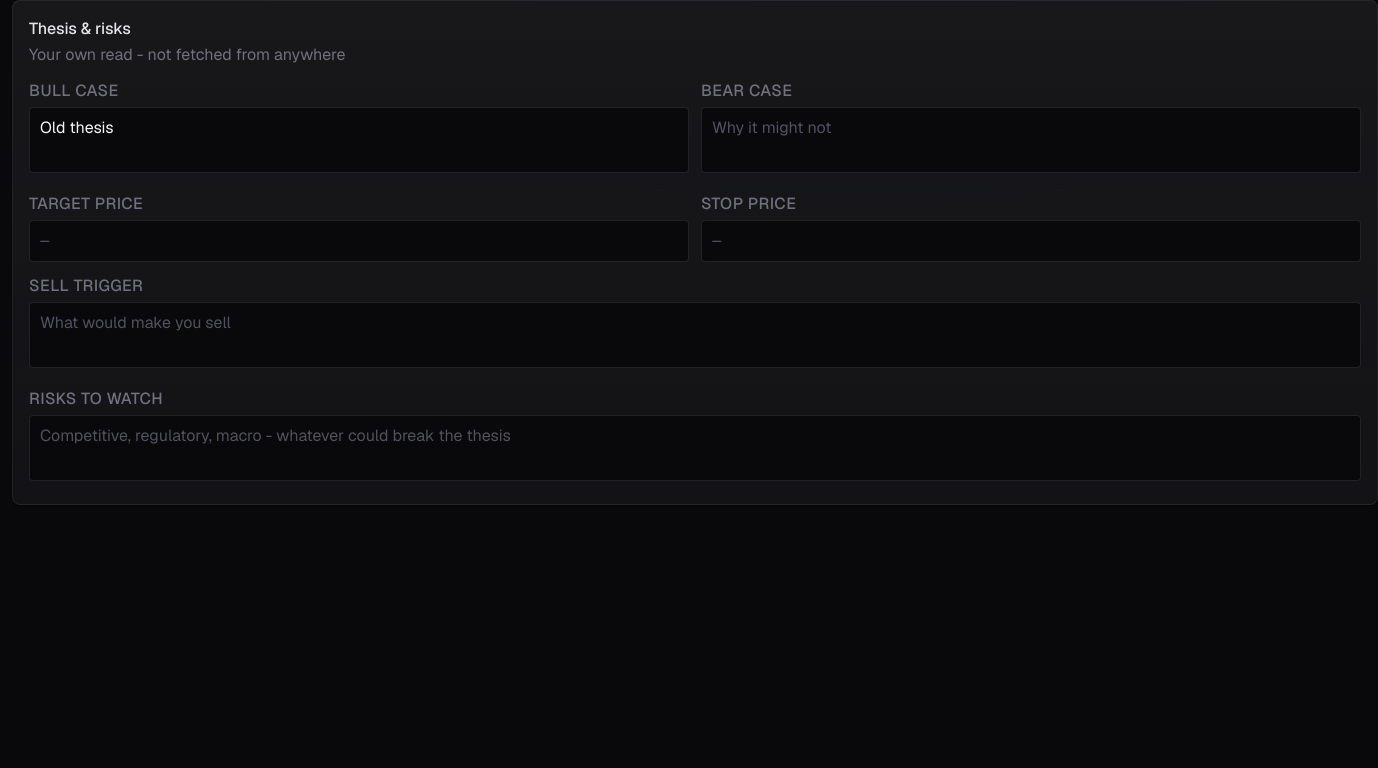
Scenario: ThesisAndRisksCard saving through the note mutation › a failed text save keeps the draft
Replace the text in the text box showing "Old thesis" with "Paragraphs of new thesis": (359, 140) [29,107,689,173]
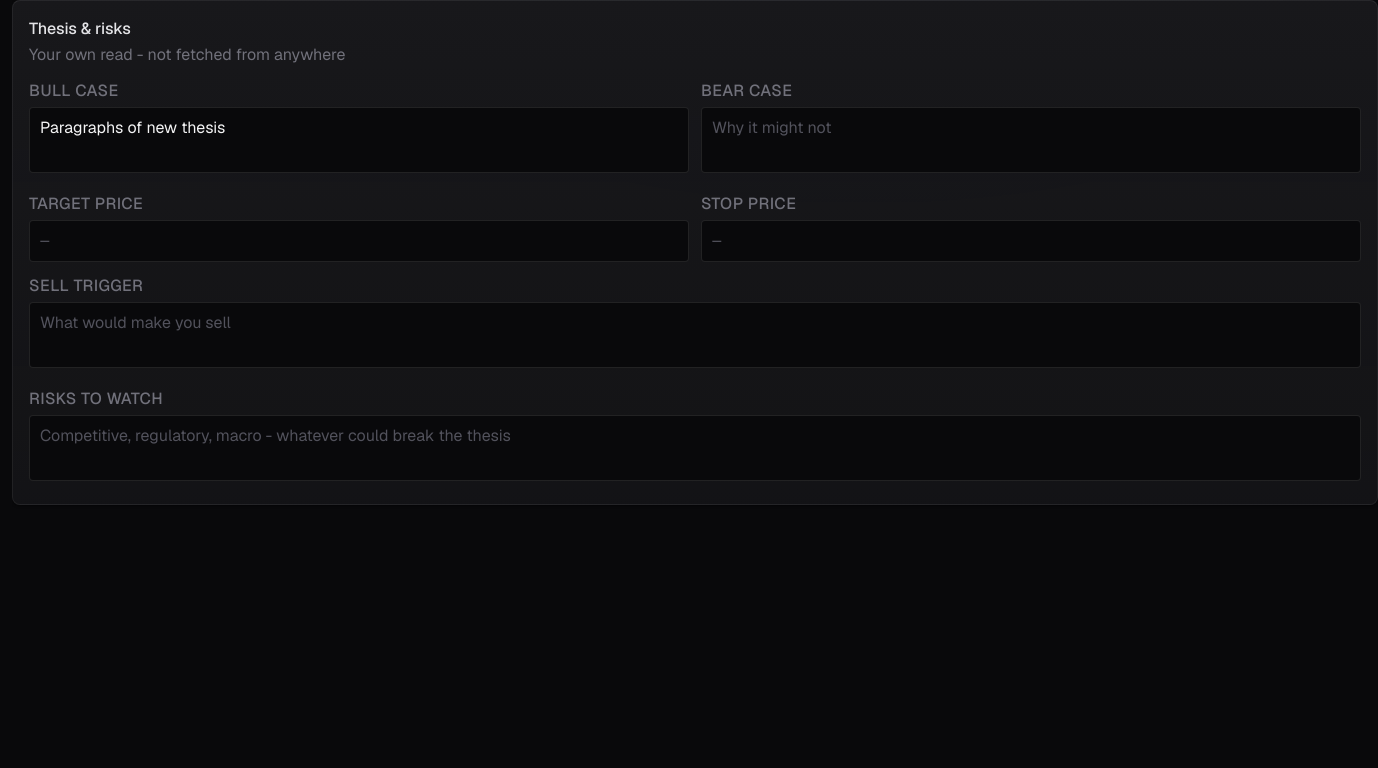
Leave the text box showing "Old thesis", box [29,107,689,173]
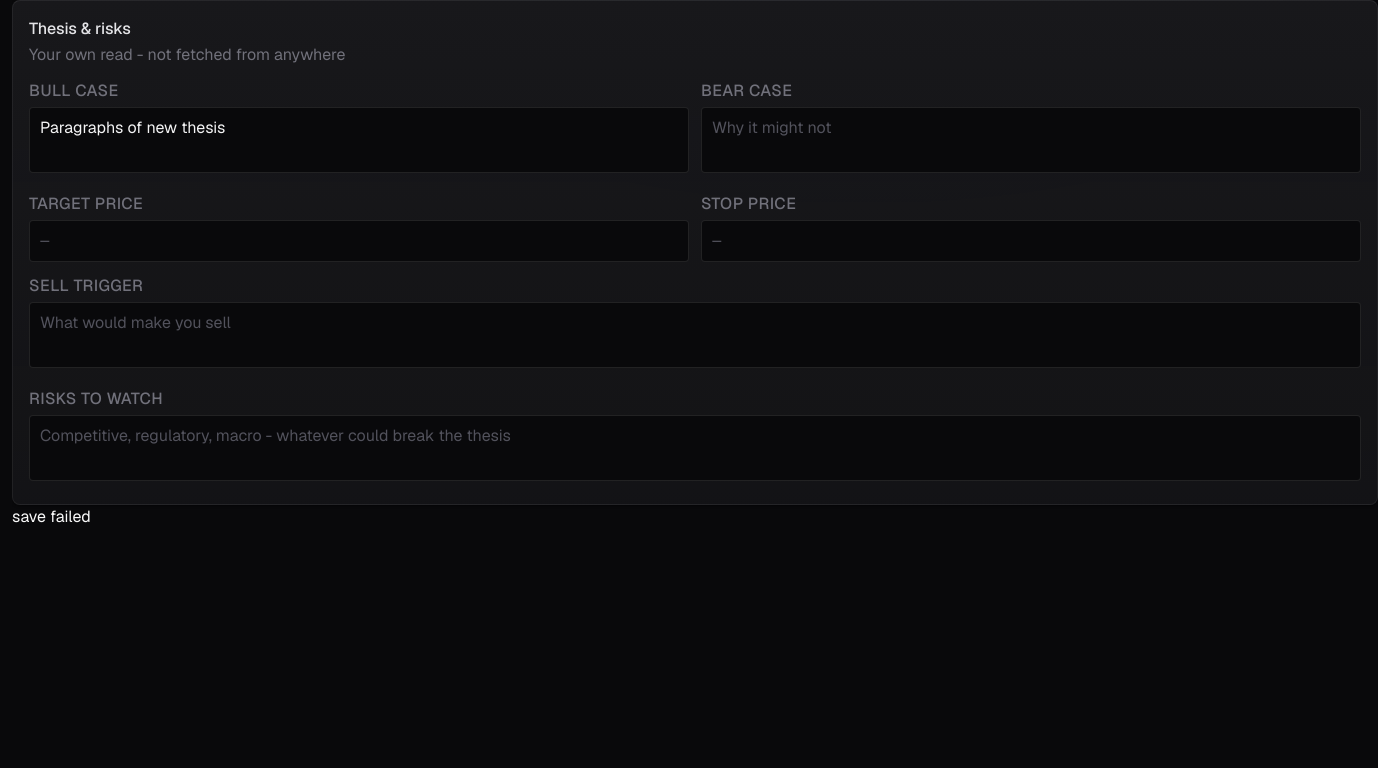
expect the text "save failed" is shown: met, box [12,506,91,527]
